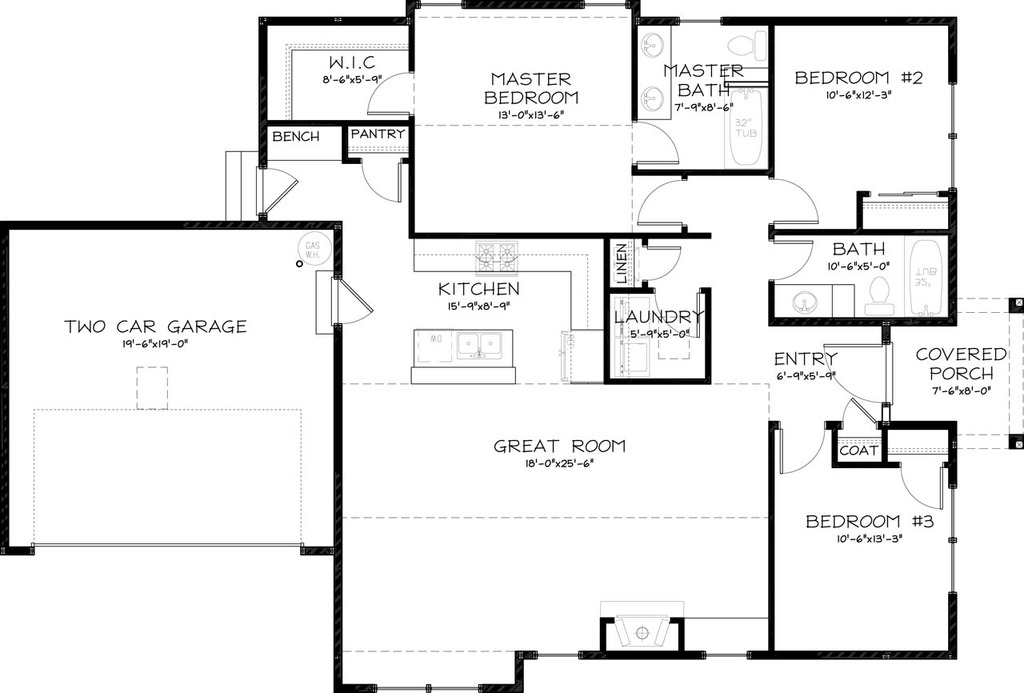door: (301, 271, 382, 337), (820, 342, 896, 403), (763, 174, 819, 229), (354, 70, 420, 115), (630, 123, 691, 170), (629, 179, 686, 229), (364, 156, 410, 212), (776, 423, 827, 473), (653, 289, 702, 341), (900, 459, 948, 510), (250, 164, 298, 214), (767, 239, 821, 283), (638, 244, 691, 284), (842, 399, 881, 431)
kitchen_bar: (399, 324, 527, 383)
large_sink: (717, 32, 768, 66), (863, 273, 898, 315)
small_sink: (769, 280, 858, 323), (637, 22, 677, 117)
tub: (899, 236, 960, 324), (721, 85, 779, 170)
